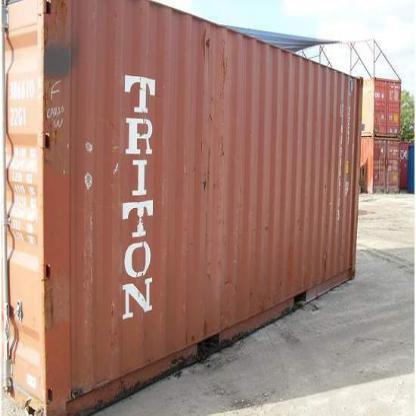Damage: (39, 69, 68, 155), (320, 209, 344, 275), (102, 288, 124, 357), (43, 259, 64, 330), (74, 130, 94, 201), (106, 113, 127, 178), (215, 33, 234, 101), (193, 141, 214, 194), (201, 207, 214, 286), (180, 315, 215, 344), (195, 20, 214, 60), (62, 375, 91, 400), (221, 271, 242, 287)
